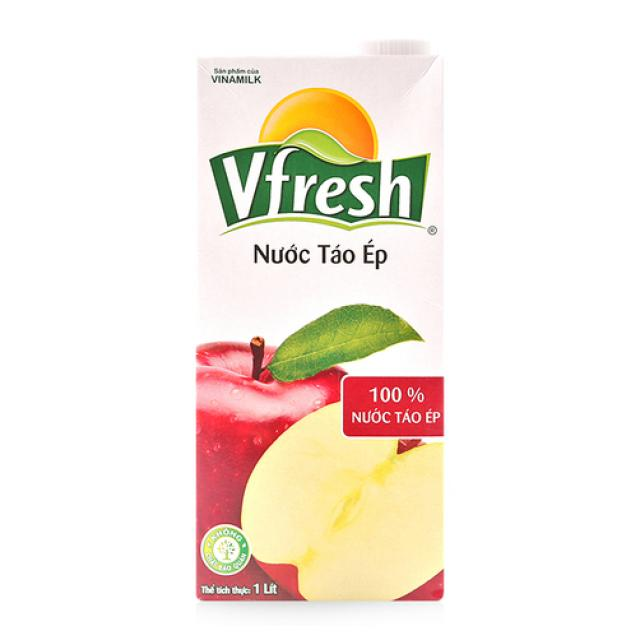non_white_jug: (176, 8, 458, 596)
